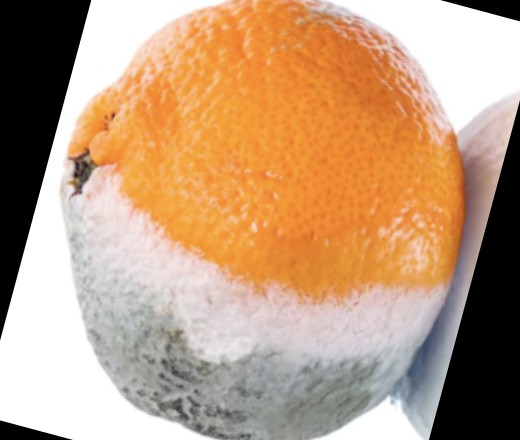rotten_orange: (62, 1, 464, 440)
